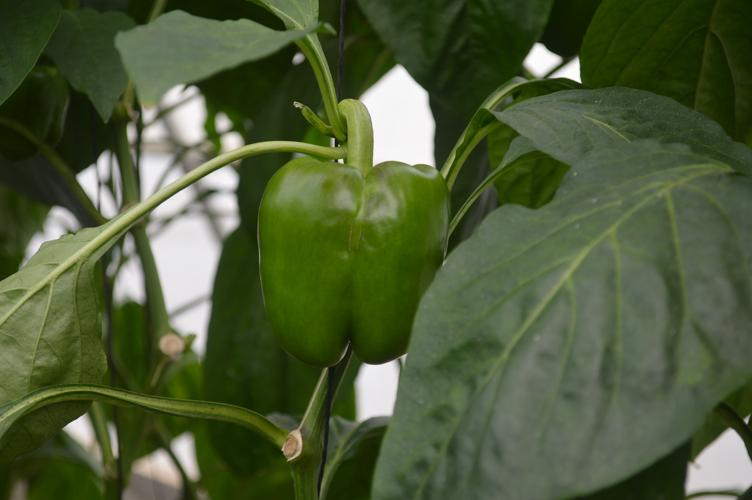BellPepper: (257, 157, 447, 364)
